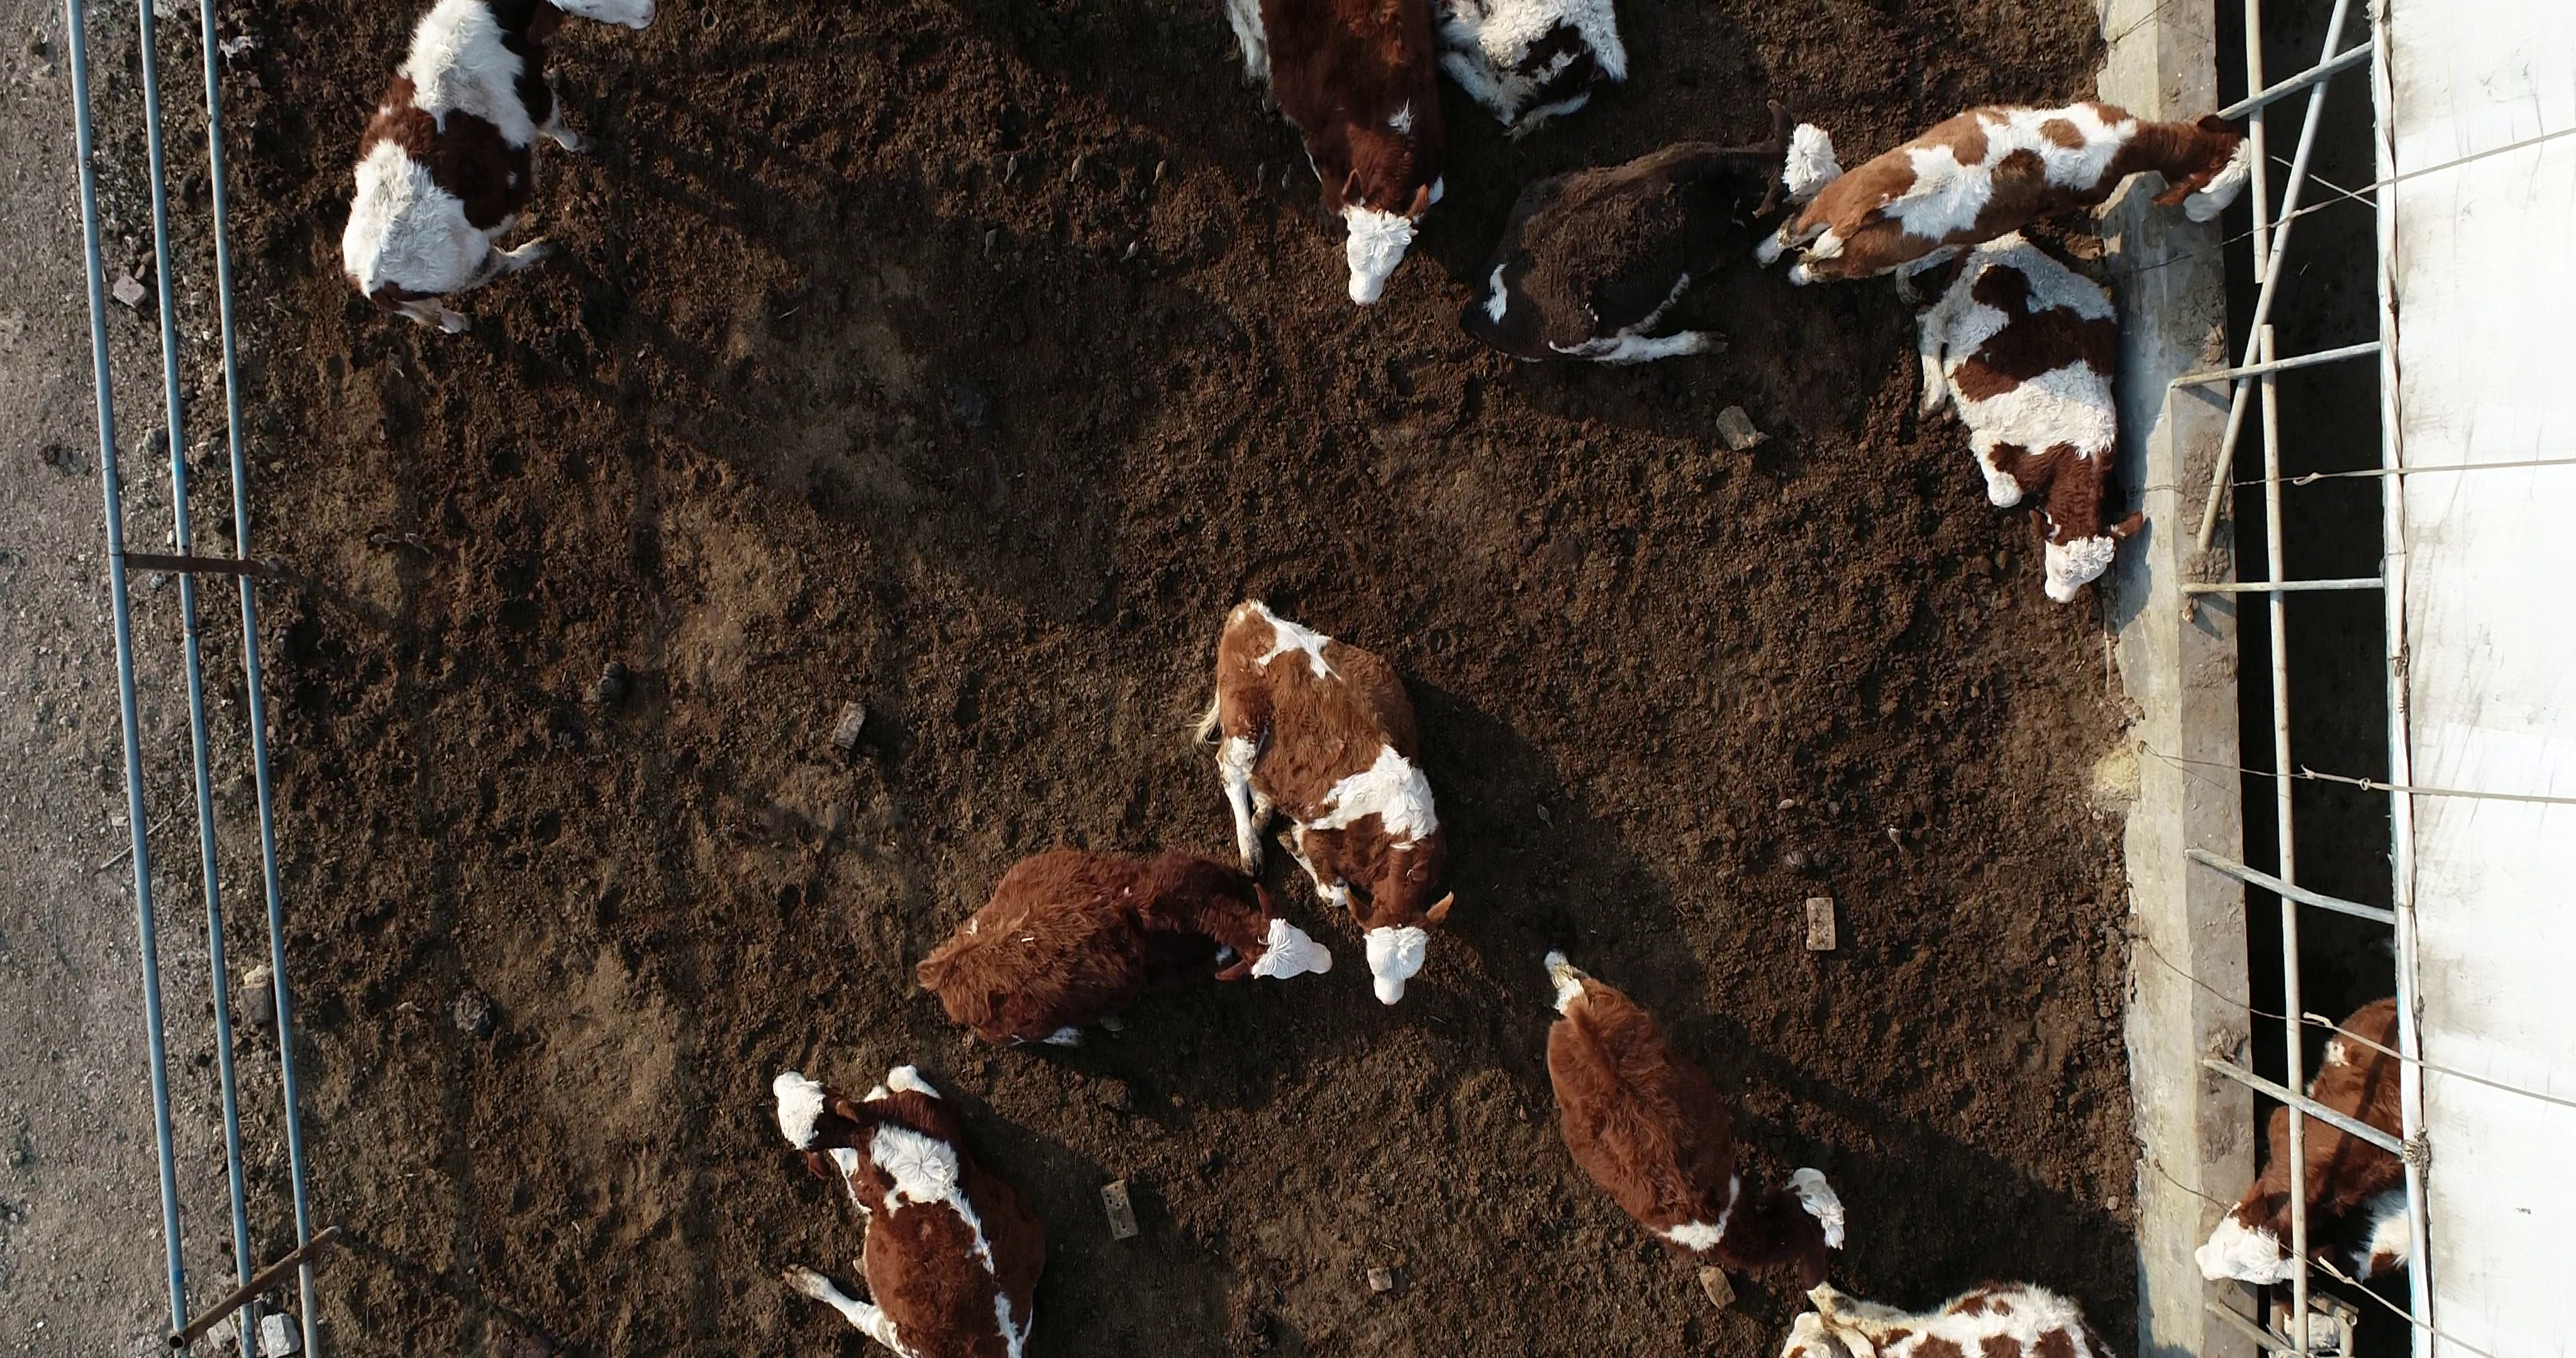cattle: (1184, 598, 1460, 1010), (1452, 92, 1850, 377), (1535, 949, 1852, 1295), (1753, 99, 2252, 293), (911, 843, 1341, 1056)
